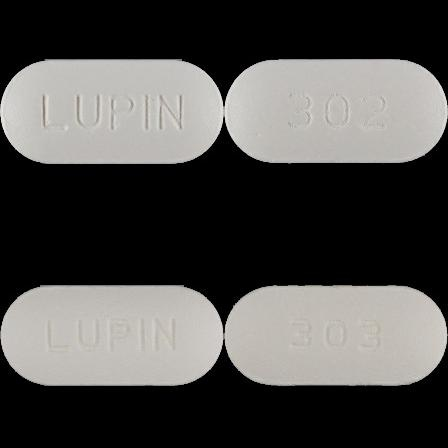68788-9700: (0, 0, 224, 224)
